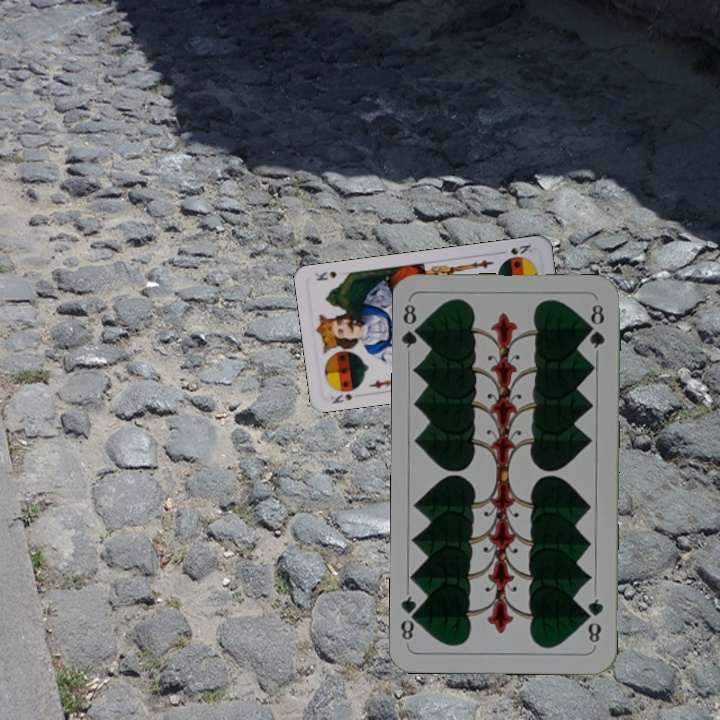G8: (399, 301, 426, 351), (582, 594, 606, 645)
SK: (495, 240, 535, 257), (327, 390, 355, 406)
